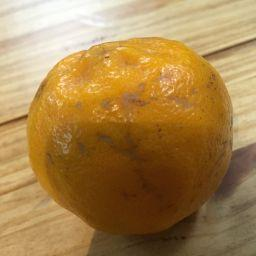Unripe: (26, 39, 234, 234)
